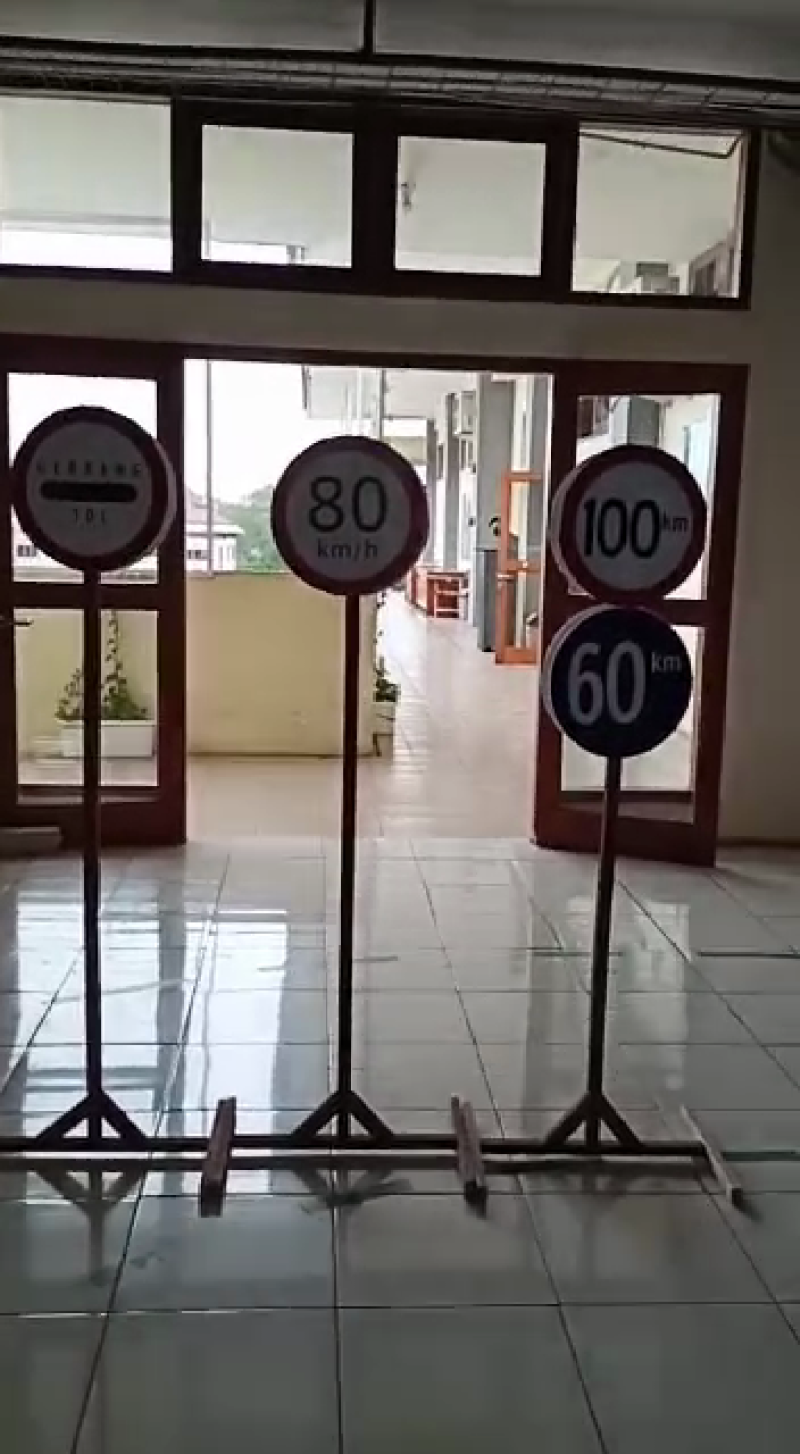batas maksimal 100kmperjam minimal 60kmperjam: (535, 446, 722, 757)
batas maksimal 80kmperjam: (266, 416, 431, 609)
gerbang tol: (1, 401, 179, 579)
